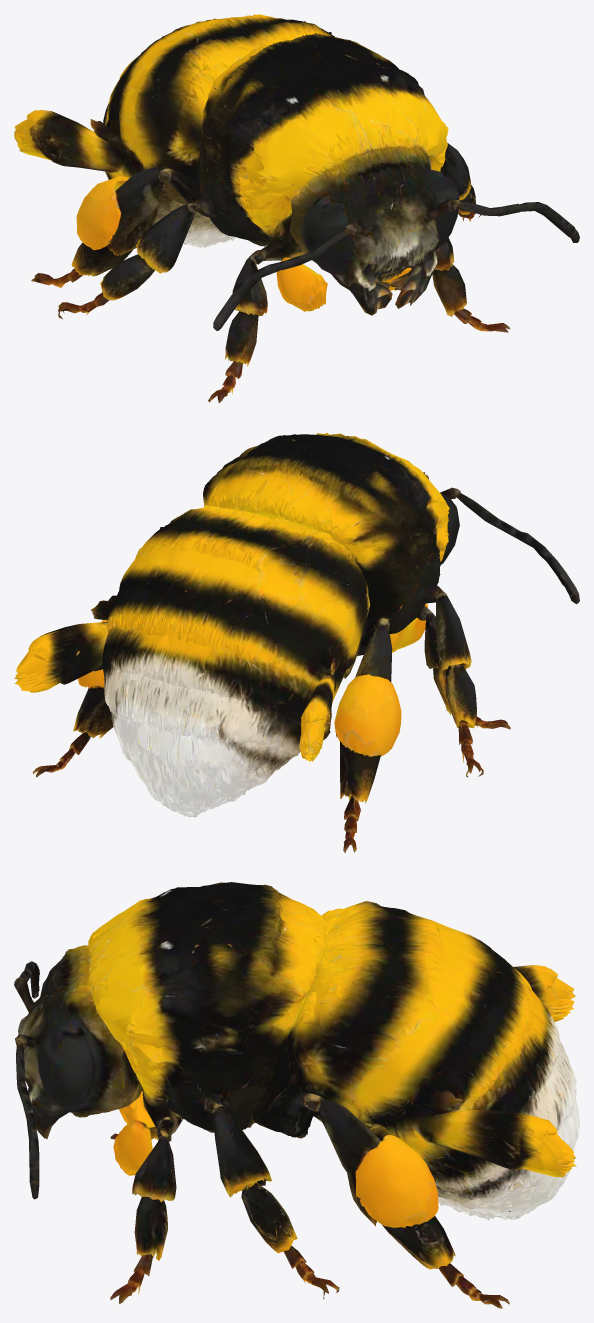
Rendered from bee-s768.glb.
3 views of the same model, one above another, from view 1: azimuth 30°, elevation 25°; view 2: azimuth 150°, elevation 25°; view 3: azimuth 270°, elevation 25° (orthographic). The views are drawn at different scales.
Parts seen in each view (by area): view 1: Mesh_0; view 2: Mesh_0; view 3: Mesh_0.
Part boxes in pixels (<box>): Mesh_0: <box>14,14,579,402</box>; Mesh_0: <box>14,433,579,853</box>; Mesh_0: <box>14,882,579,1308</box>.
Size of the model in its own units: 1.87 by 1.19 by 1.88.
Materials: 1 (1 with a texture image).
